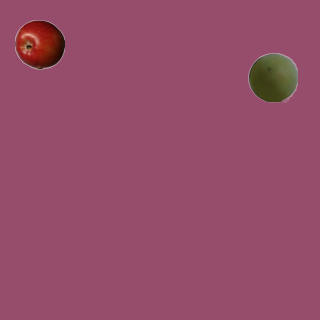Apple Braeburn: (14, 19, 64, 69)
Grape White 4: (247, 52, 297, 102)
